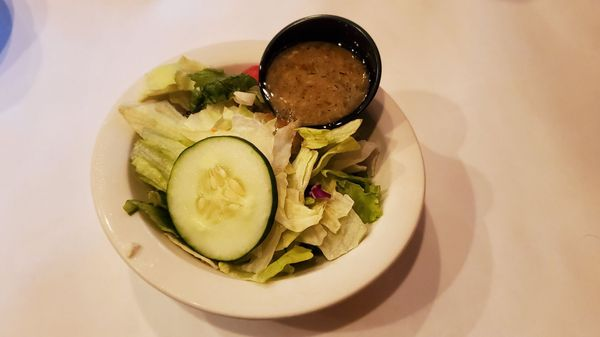curry: (185, 69, 259, 113)
sushi: (90, 11, 429, 321)
